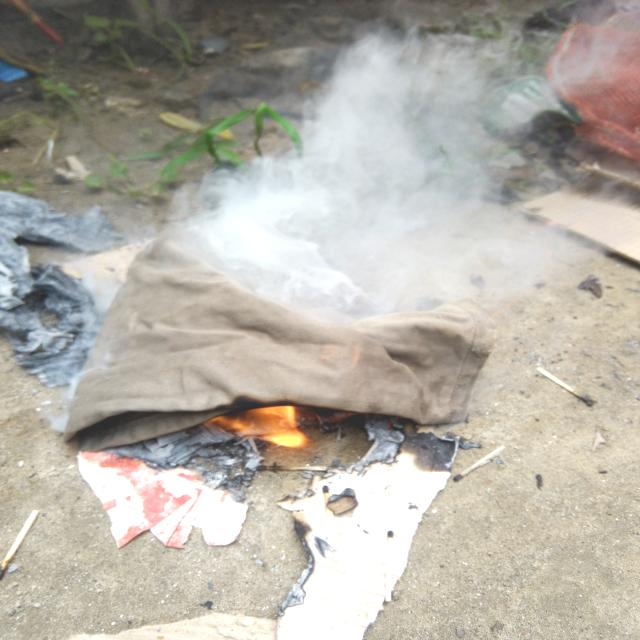firerotation: (206, 402, 309, 451)
